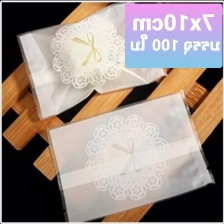snack: (44, 83, 220, 221), (12, 2, 173, 124)
